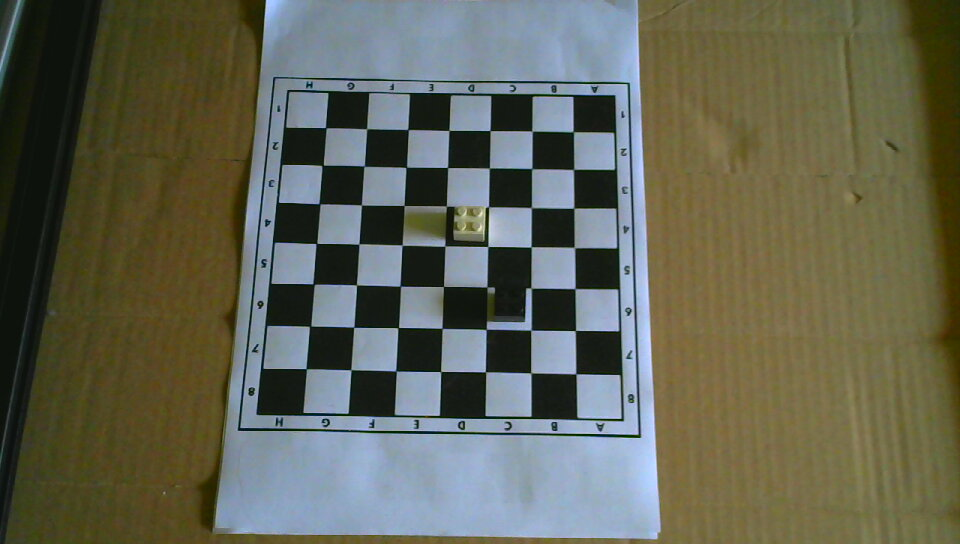bp: (492, 282, 528, 324)
wp: (452, 202, 487, 245)
